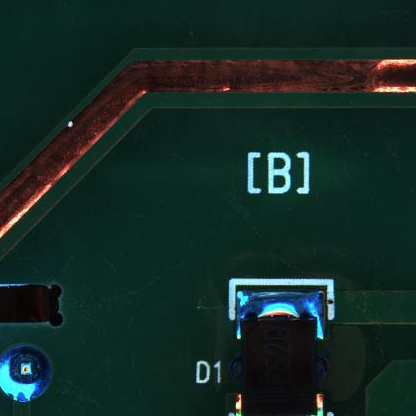spot: (1, 342, 56, 403)
